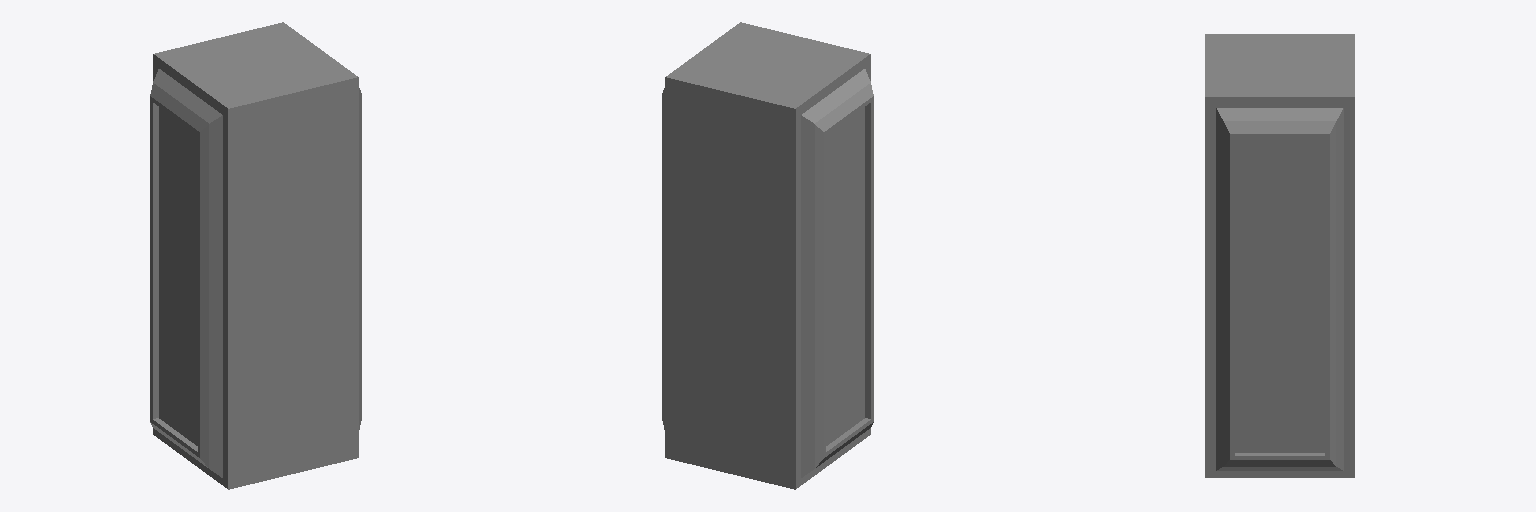
Rendered from NormalServer.obj.
3 renders of one model, left to right at view 1: azimuth 30°, elevation 25°; view 2: azimuth 150°, elevation 25°; view 3: azimuth 270°, elevation 25°, orthographic.
Visible parts, largest first — view 1: SM_RackServer_E; view 2: SM_RackServer_E; view 3: SM_RackServer_E.
Boxes of the visible parts, x1,y1,x2,y2 form: SM_RackServer_E: [150, 22, 361, 489]; SM_RackServer_E: [662, 22, 873, 489]; SM_RackServer_E: [1205, 34, 1354, 477].
Bounding box in the file's own units: 39.31 × 88.58 × 31.68.